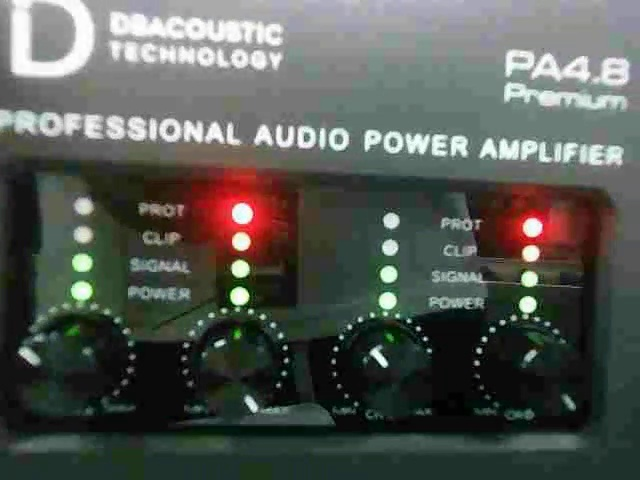A_CLIP_H: (440, 237, 544, 266), (140, 224, 255, 250)
A_CLIP_L: (69, 223, 186, 251), (378, 235, 479, 263)
A_PROT_H: (438, 211, 544, 240), (135, 199, 255, 224)
A_PROT_L: (72, 193, 188, 224), (380, 211, 488, 240)
A_PWR_H: (126, 282, 252, 310), (68, 280, 194, 307), (377, 289, 491, 317), (426, 290, 540, 318)
A_area: (67, 186, 259, 312), (371, 206, 542, 319)
